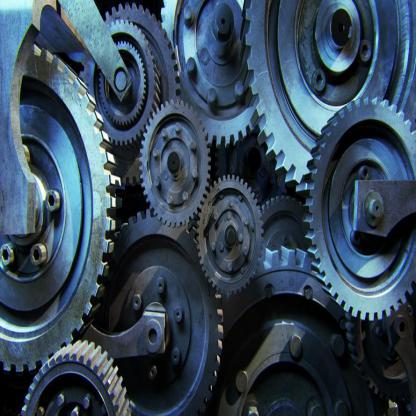FOD: (0, 35, 122, 379), (302, 92, 416, 328), (240, 0, 314, 208), (138, 96, 212, 232), (92, 14, 162, 152), (20, 333, 133, 415), (194, 173, 264, 298)
